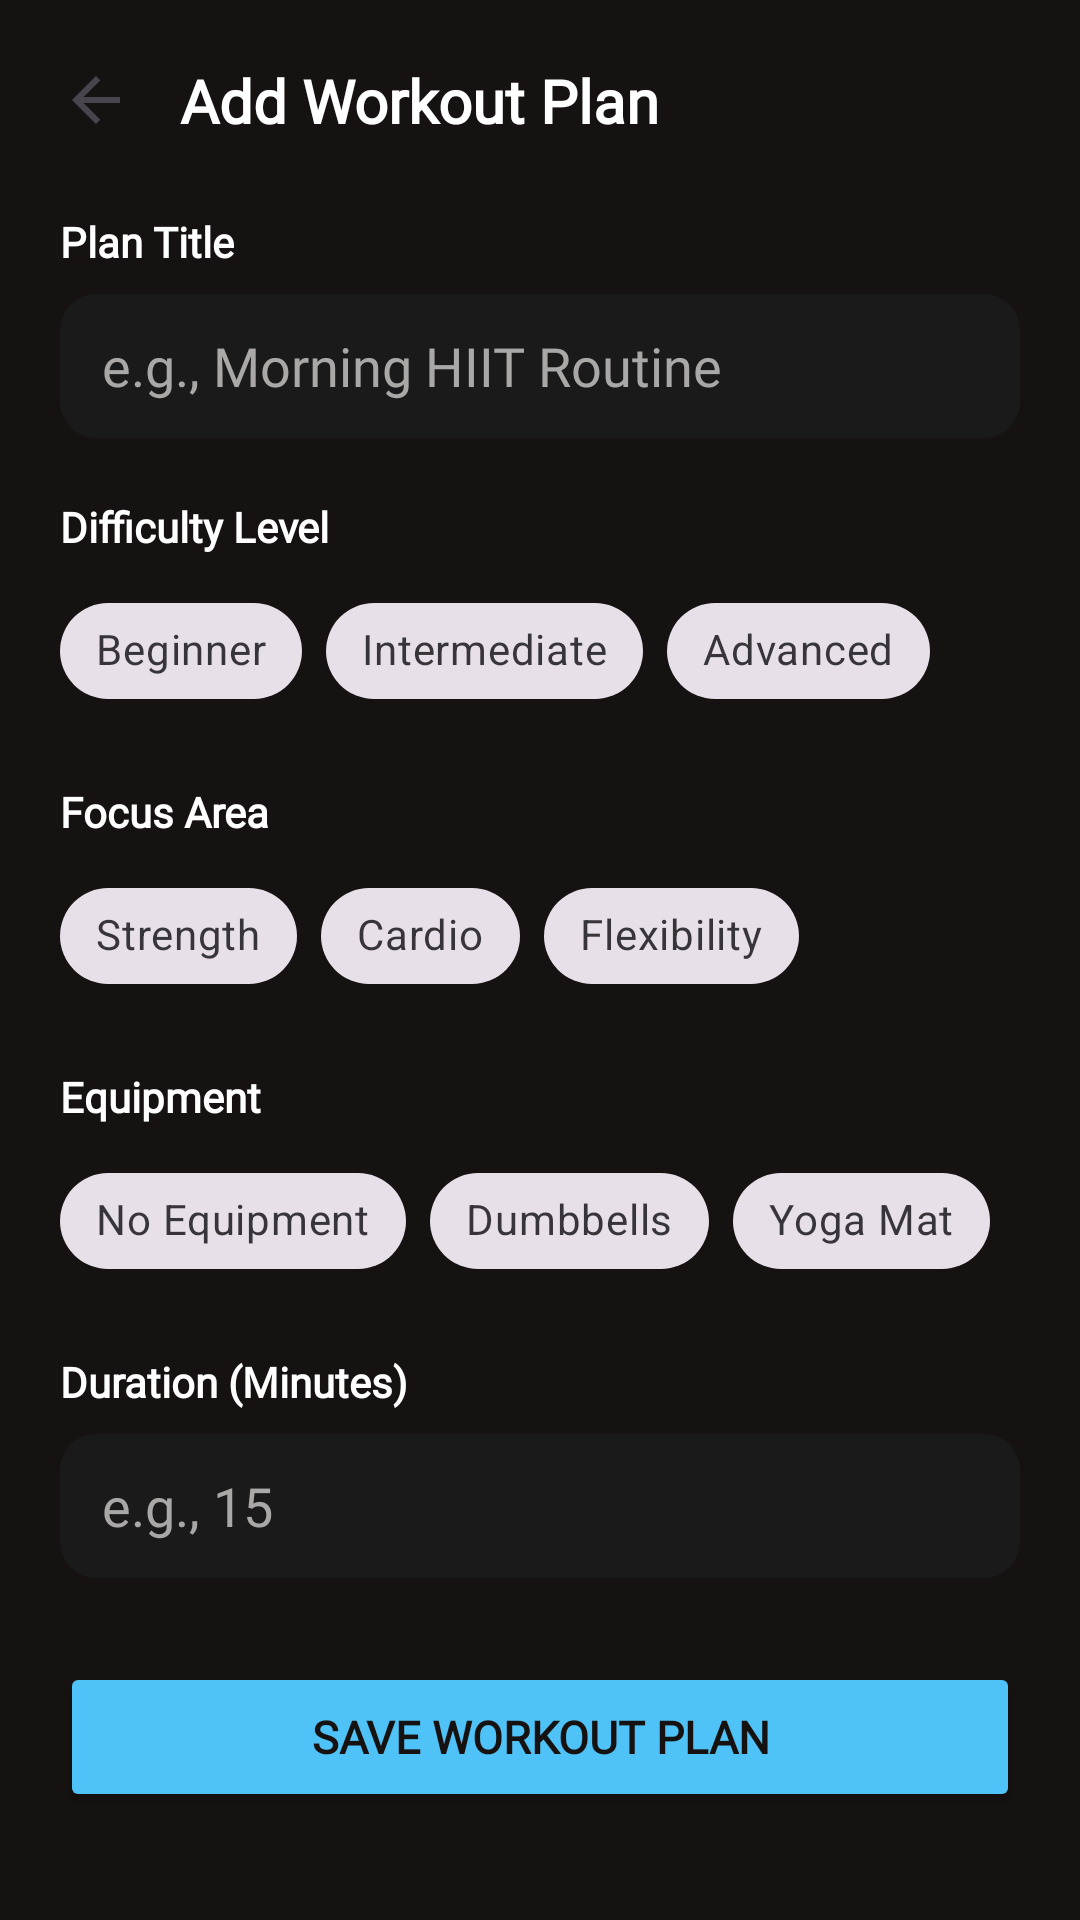

Icons on this 1080×1920 Android screen, each with its box as (x1, y1, x2, y2):
Go back: (72, 76, 120, 124)
